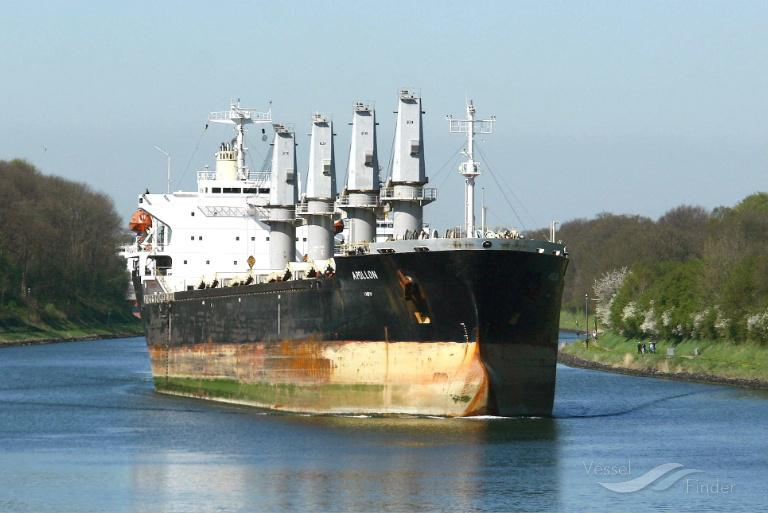OCR: (346, 267, 388, 284)
